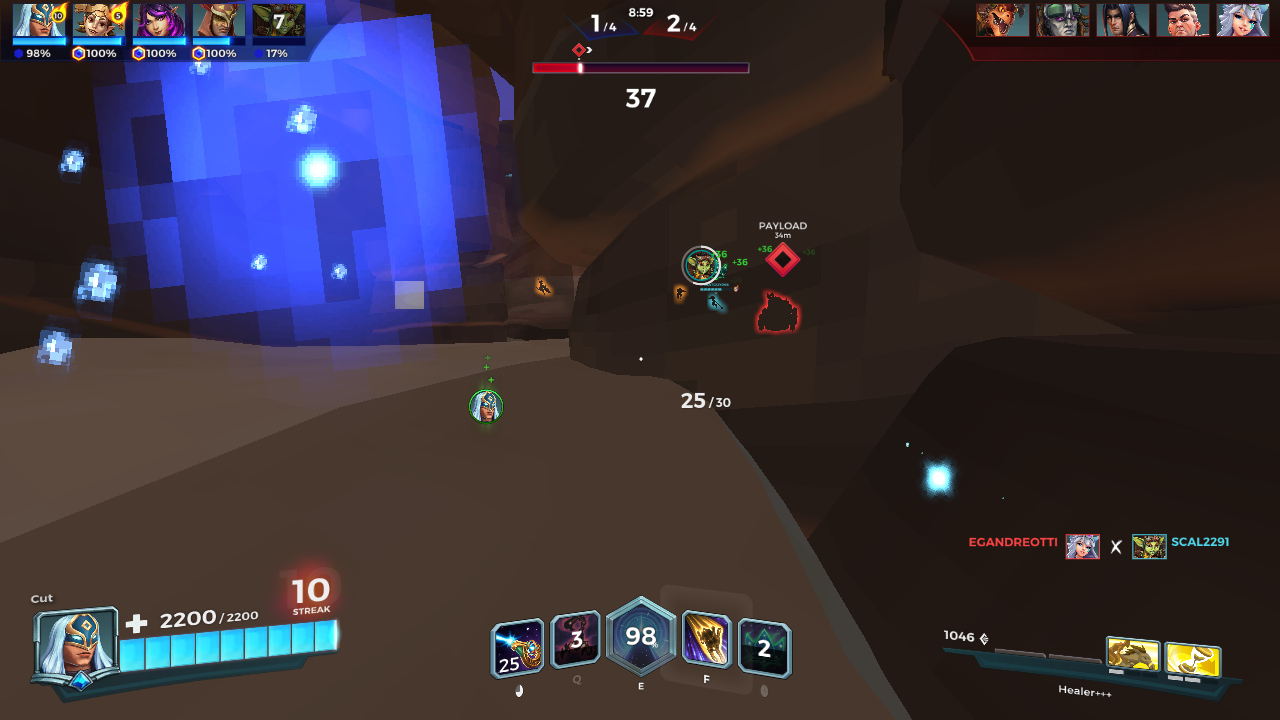model: (535, 278, 556, 300), (673, 282, 685, 303)
